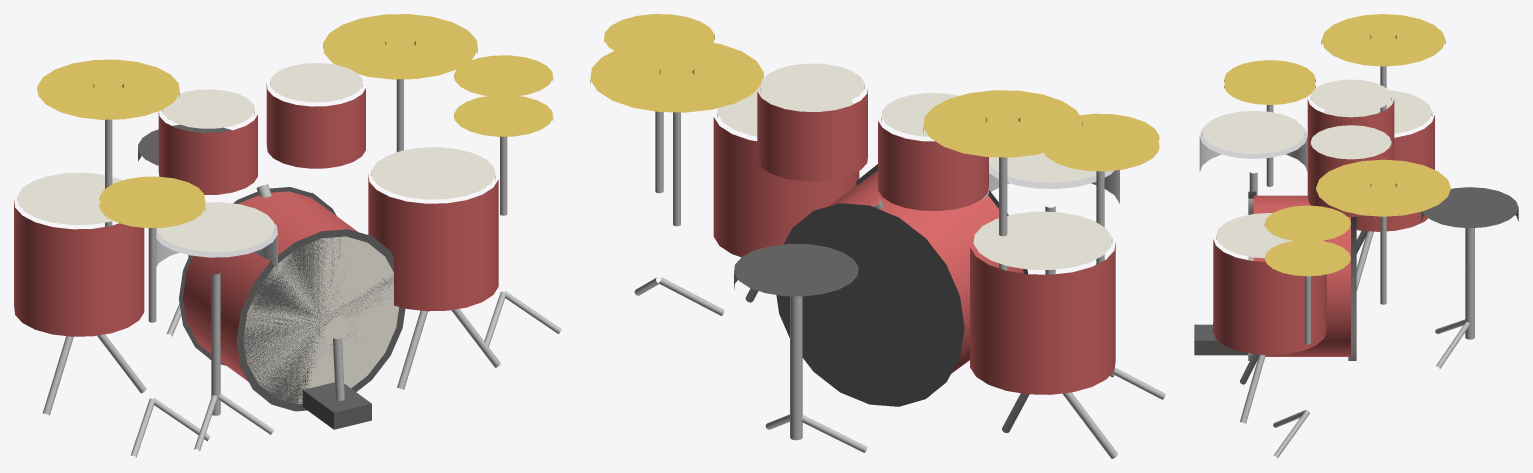
Rendered from drum.glb.
The picture shows the model from 3 angles, left to right: view 1: azimuth 30°, elevation 25°; view 2: azimuth 150°, elevation 25°; view 3: azimuth 270°, elevation 25°; orthographic projection. The views are drawn at different scales.
Visible parts, largest first — view 1: drum; view 2: drum; view 3: drum.
Part boxes in pixels (bbox=[...]): drum: bbox=[14, 14, 561, 457]; drum: bbox=[590, 14, 1165, 458]; drum: bbox=[1194, 14, 1518, 458].
Bounding box in the file's own units: 1.79 × 1.07 × 1.2.
